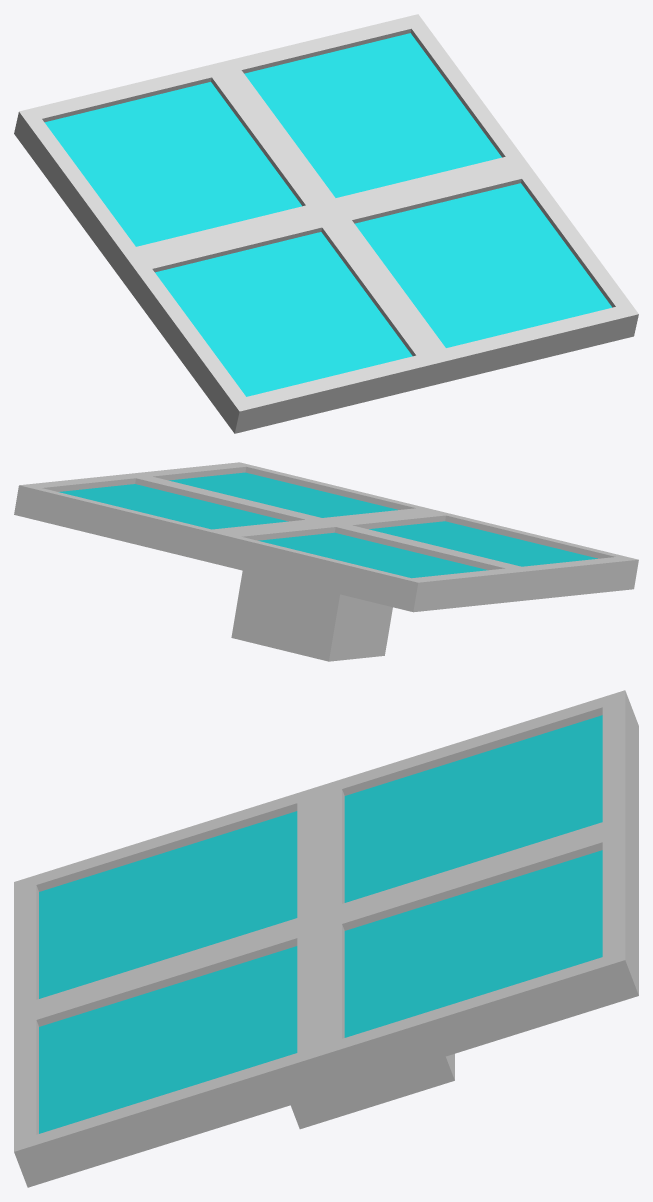
Rendered from SolarPanel.glb.
3 views of the same model, one above another, from view 1: azimuth 30°, elevation 25°; view 2: azimuth 150°, elevation 25°; view 3: azimuth 270°, elevation 25° (orthographic). The views are drawn at different scales.
Parts seen in each view (by area): view 1: SolarPanel; view 2: SolarPanel; view 3: SolarPanel.
Part boxes in pixels (x1,y1,x2,y2): SolarPanel: [14, 14, 638, 433]; SolarPanel: [14, 462, 638, 661]; SolarPanel: [14, 690, 638, 1187].
Size of the model in its own units: 9.88 by 4.63 by 9.67.
